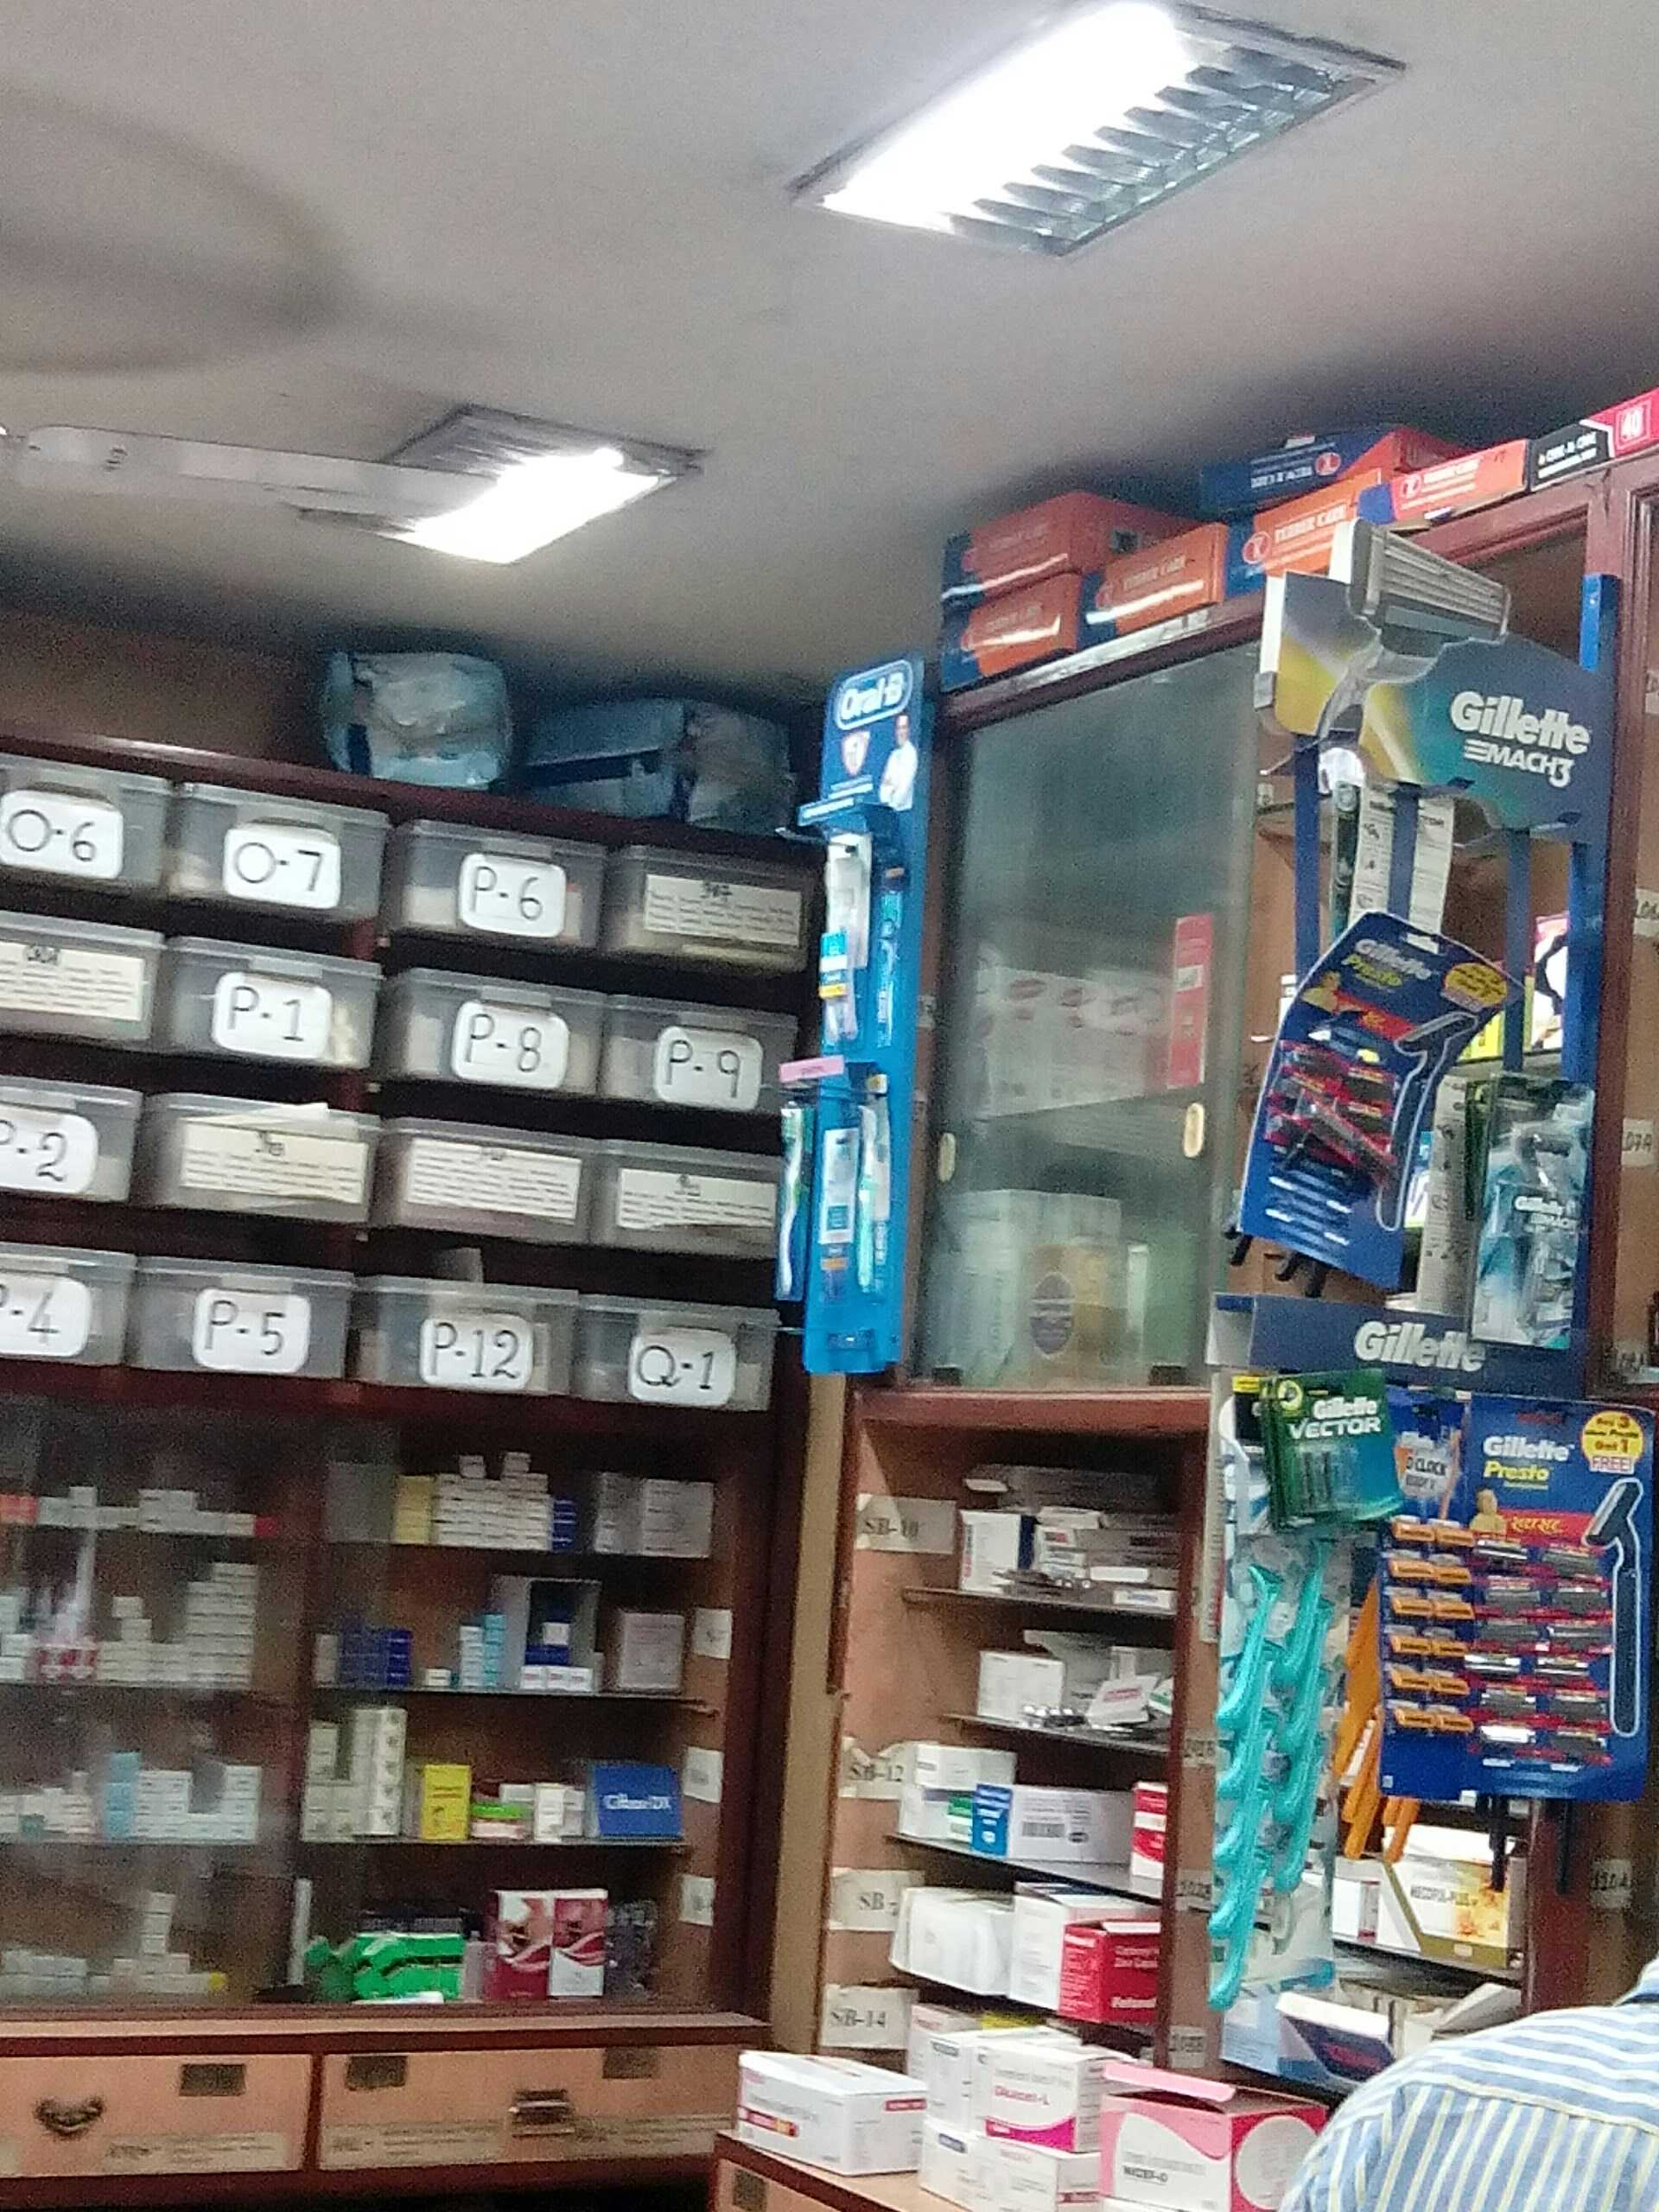beauty: (1220, 913, 1521, 1305), (1370, 1426, 1640, 1818), (1462, 1087, 1598, 1355)
pharmacy: (788, 648, 945, 1393)
